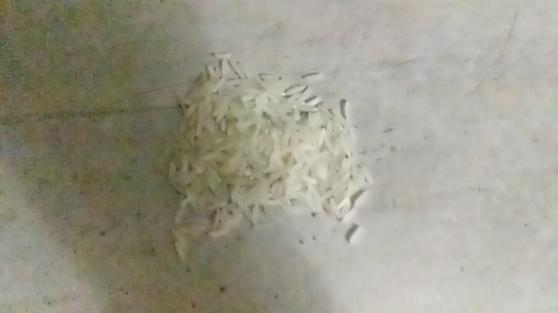rice: (135, 42, 394, 278)
